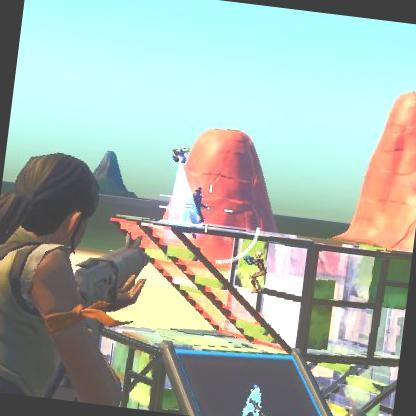person: (243, 250, 268, 293), (186, 180, 204, 226), (240, 385, 265, 416)
